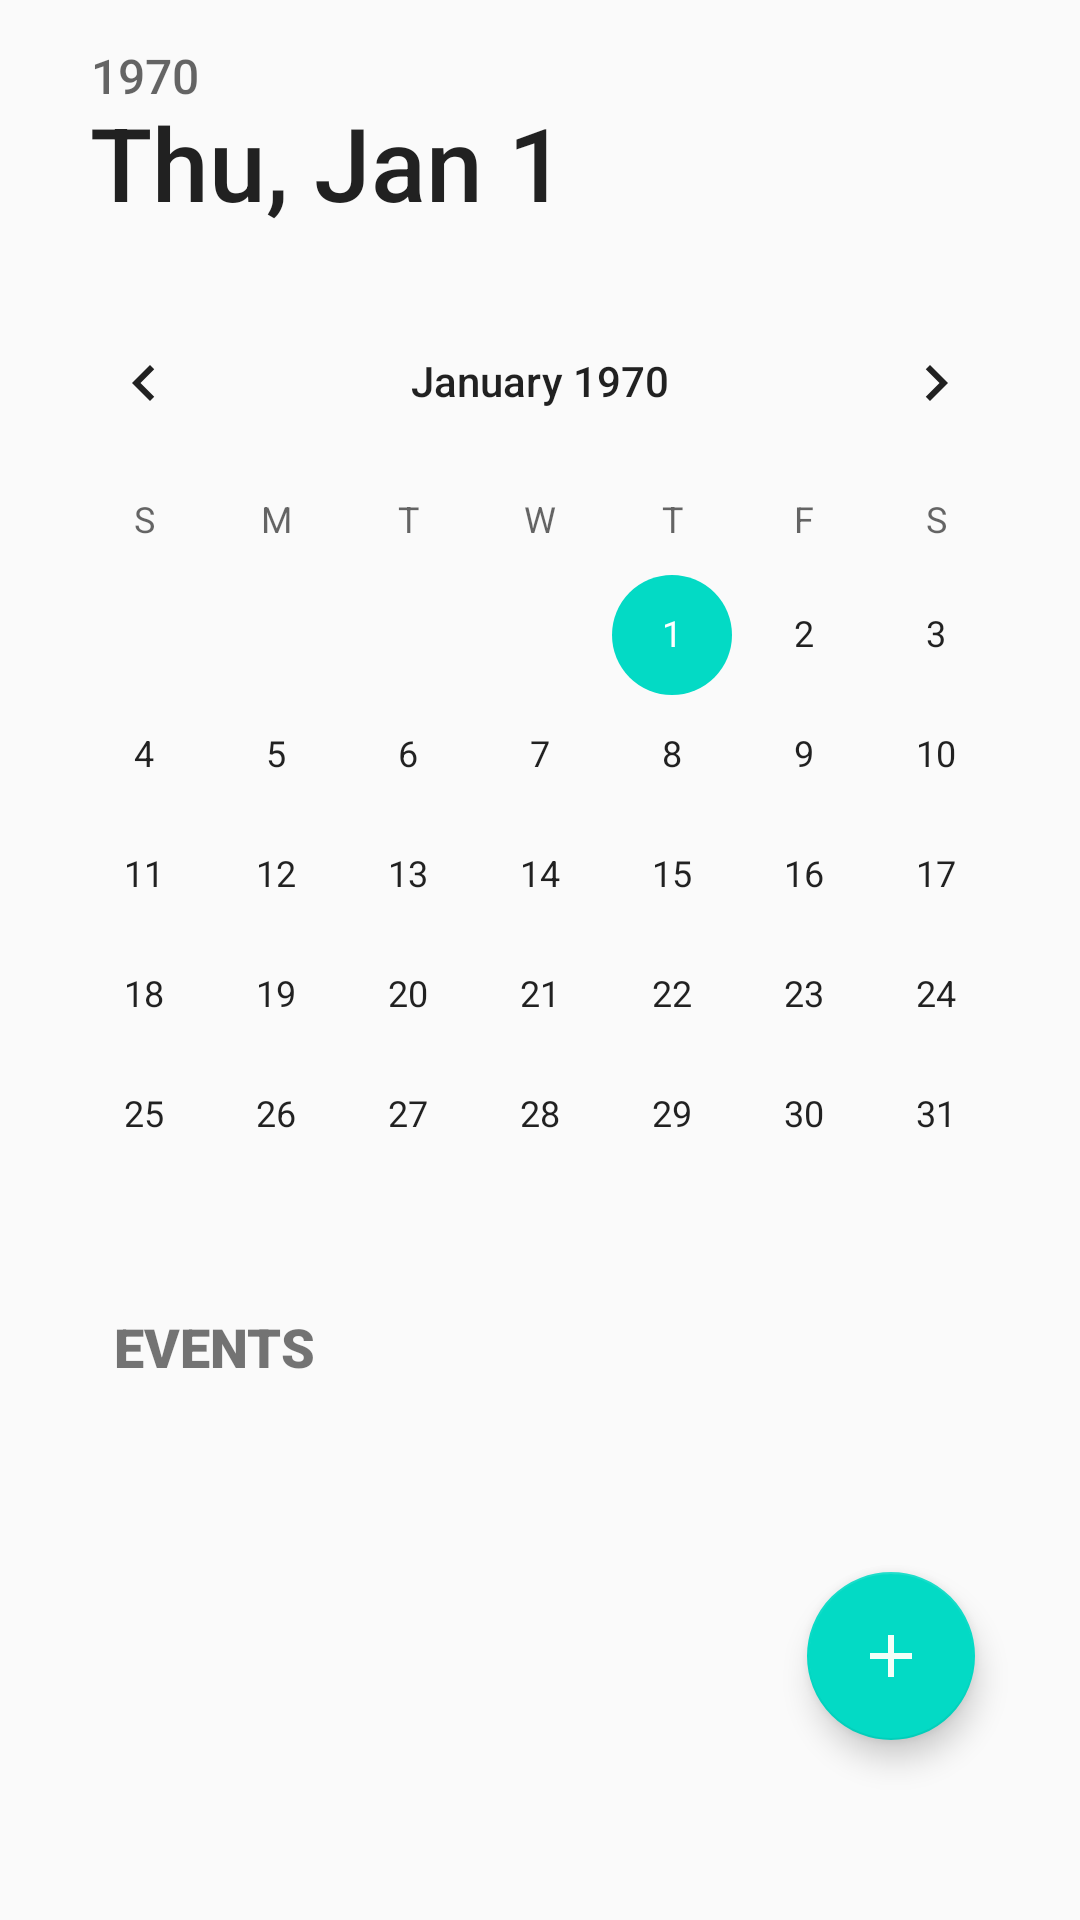

Locate icon controls on the screen. Image size 1080px x 1920px, boxes as rect(x1, y1, x2, y2).
add: rect(807, 1572, 975, 1740)
